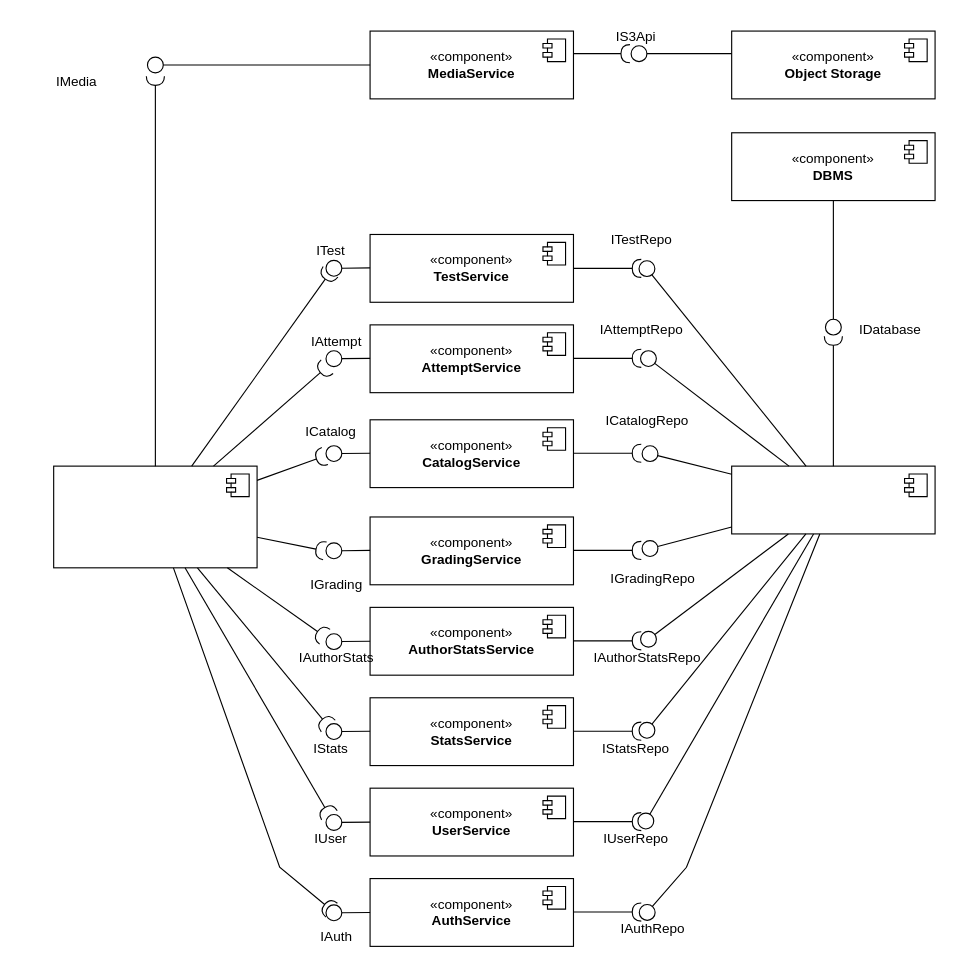
The diagram is 955 pixels wide and 973 high, and some of its shapes have lost their labels. Each missing label, with the centre of its shape:
«component» API Controller: (155,516)
«component» Repositories: (833,499)
